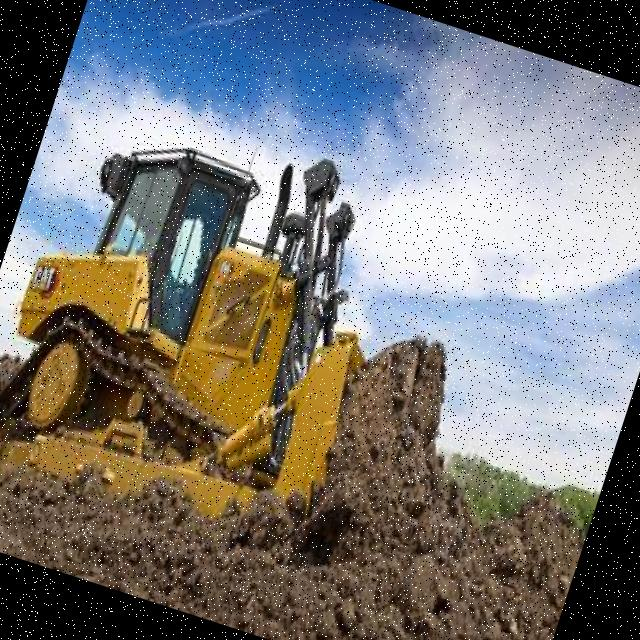Bulldozer: (0, 50, 458, 604)
